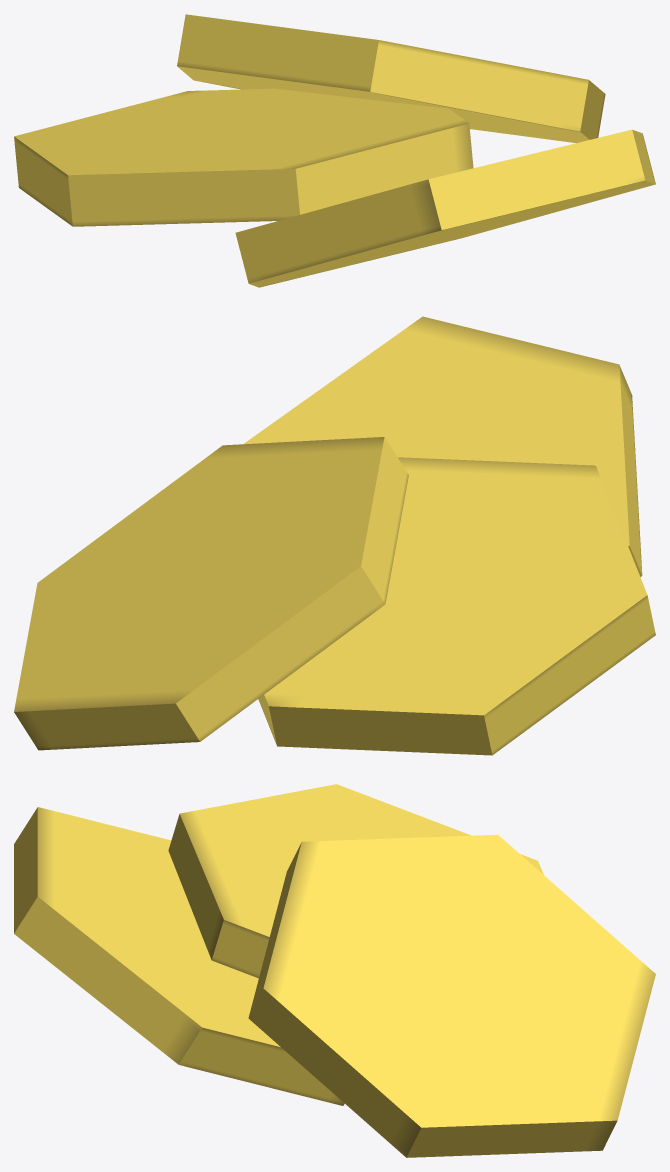
File: triple_coin.obj
3 renders of one model, top to bottom at view 1: azimuth 30°, elevation 25°; view 2: azimuth 150°, elevation 25°; view 3: azimuth 270°, elevation 25°, orthographic. The views are drawn at different scales.
Visible parts, largest first — view 1: cylinder; view 2: cylinder; view 3: cylinder.
Boxes of the visible parts, x1,y1,x2,y2 form: cylinder: [14, 14, 655, 287]; cylinder: [14, 316, 655, 755]; cylinder: [14, 784, 655, 1157].
Bounding box in the file's own units: 0.2008 × 0.0815 × 0.2111.
Materials: 1 (1 with a texture image).
